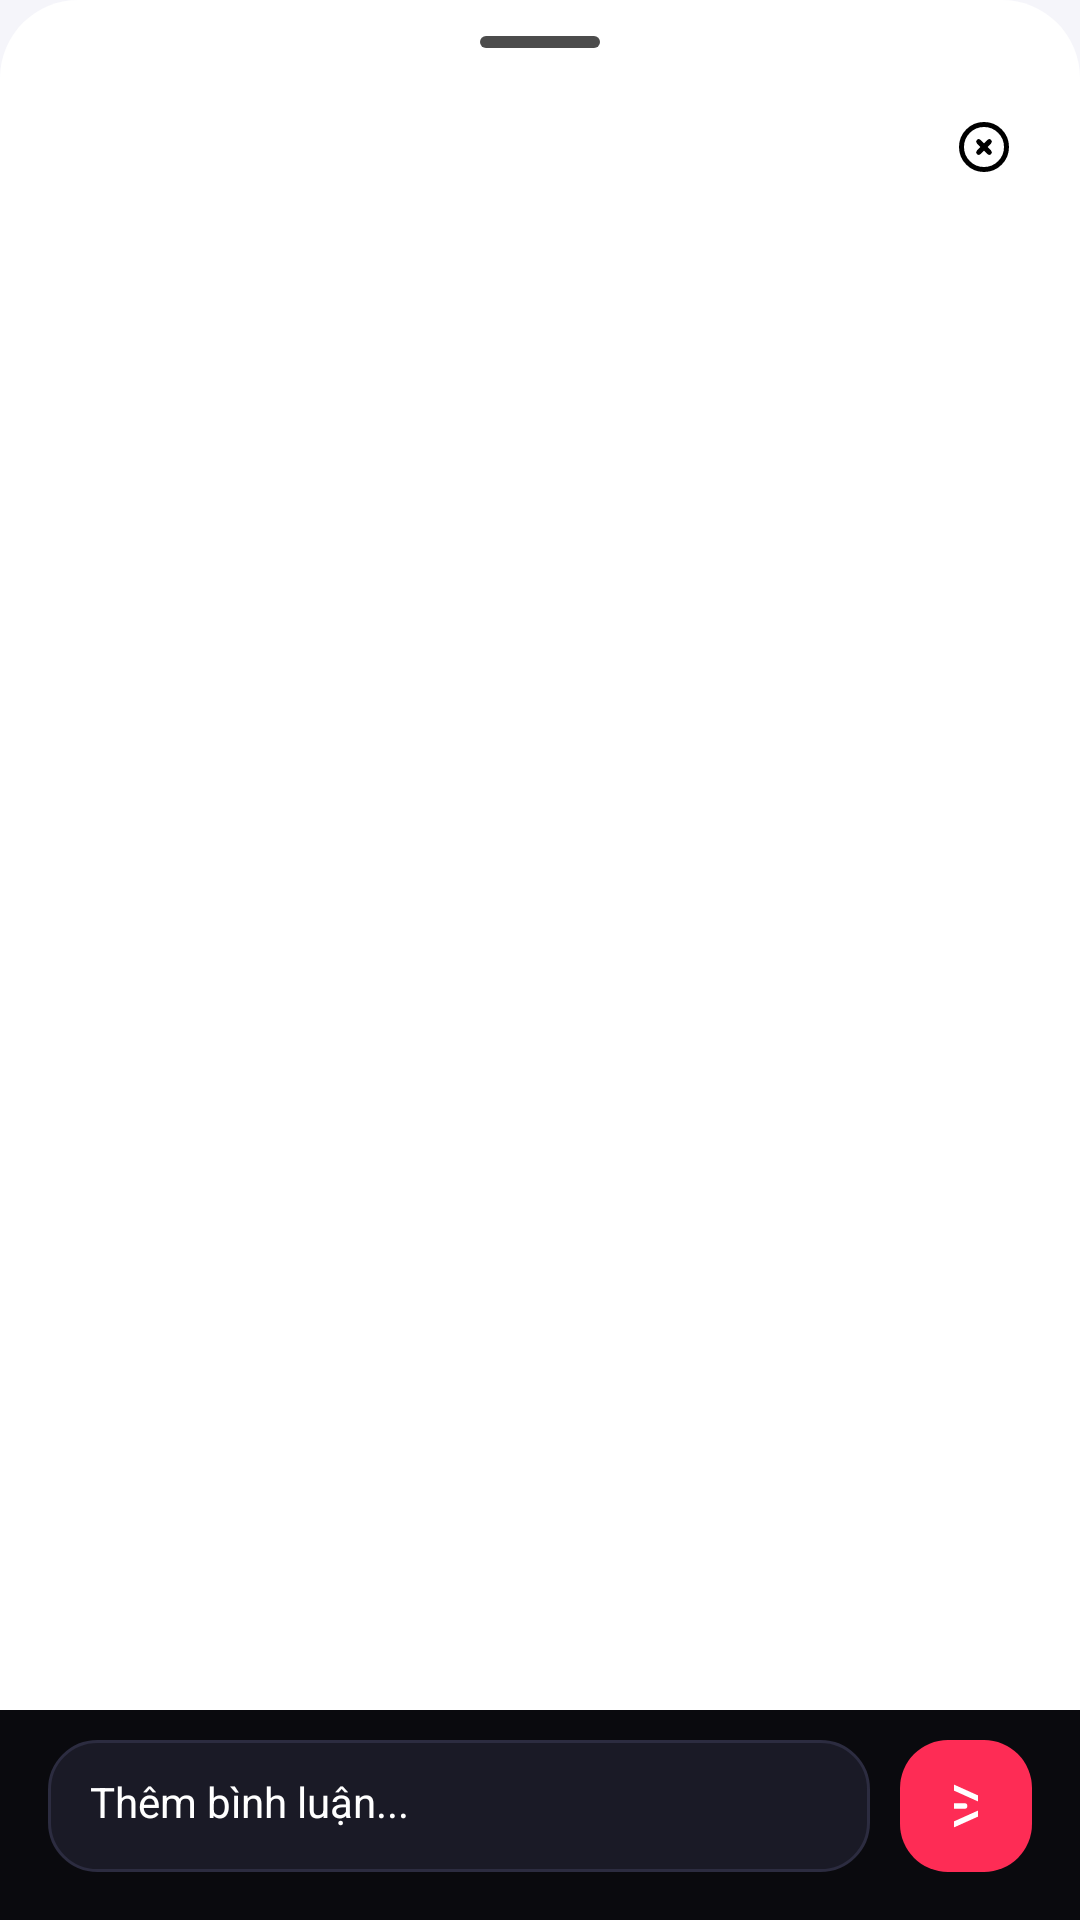

Named icons in this screenshot (1080*1920) and their centers, [x,y]:
close: [984,147]
